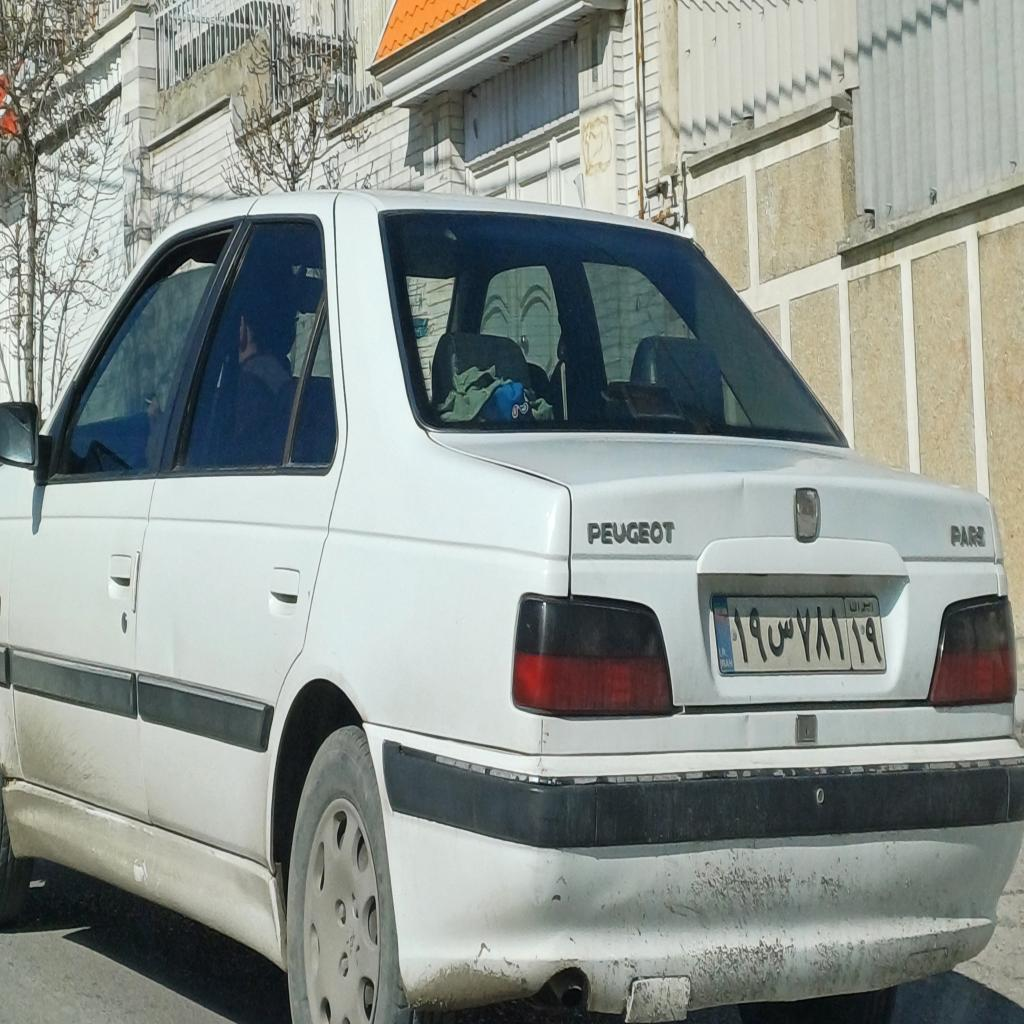Plates: (712, 593, 886, 674)
